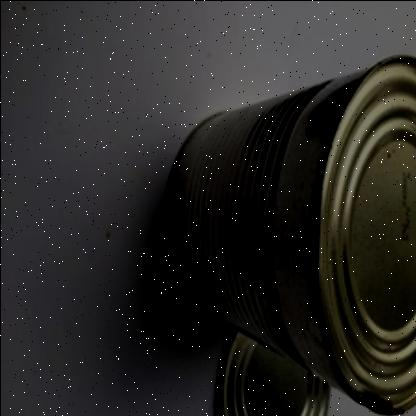Can: (166, 56, 416, 414), (210, 326, 330, 416)
